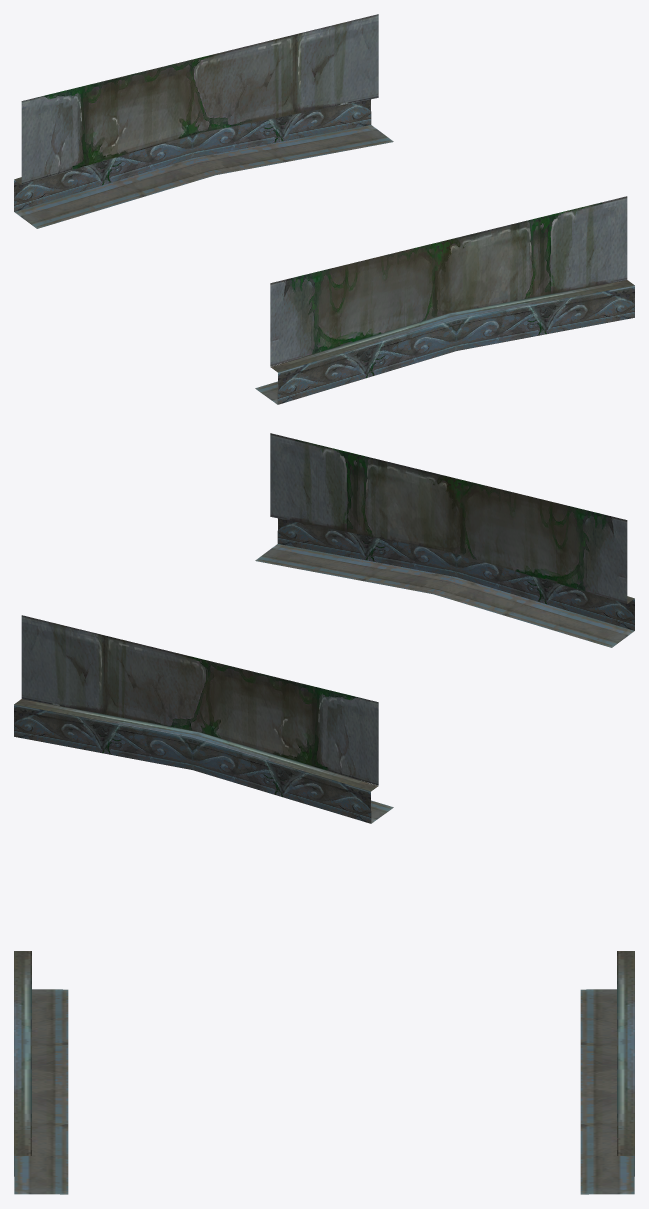
The model's file is stemple_bridgesmall_straight_01.fbx.
3 renders of one model, top to bottom at view 1: azimuth 30°, elevation 25°; view 2: azimuth 150°, elevation 25°; view 3: azimuth 270°, elevation 25°, orthographic. The views are drawn at different scales.
Visible parts, largest first — view 1: stemple_bridgesmall_straight_01-0; view 2: stemple_bridgesmall_straight_01-0; view 3: stemple_bridgesmall_straight_01-0.
Boxes of the visible parts, bbox=[...] form: stemple_bridgesmall_straight_01-0: bbox=[14, 14, 634, 404]; stemple_bridgesmall_straight_01-0: bbox=[14, 433, 634, 823]; stemple_bridgesmall_straight_01-0: bbox=[14, 951, 634, 1194].
Bounding box in the file's own units: 4 × 1.25 × 5.12.
